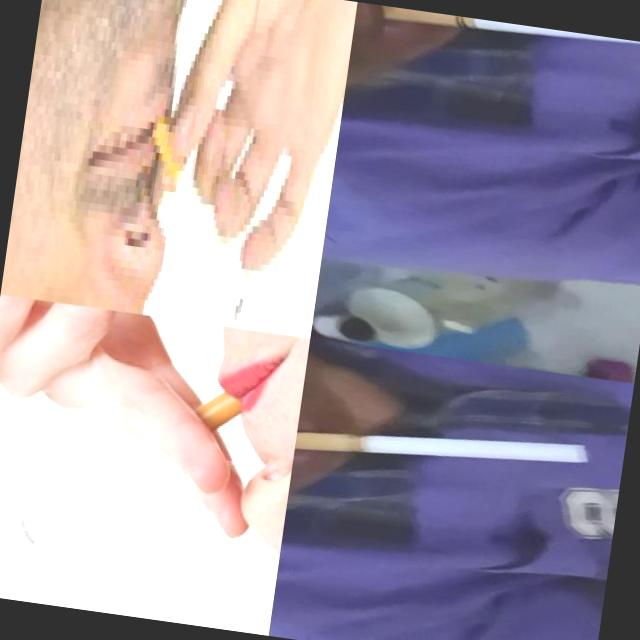smoke: (13, 355, 252, 574), (294, 402, 597, 496), (380, 6, 640, 61)
